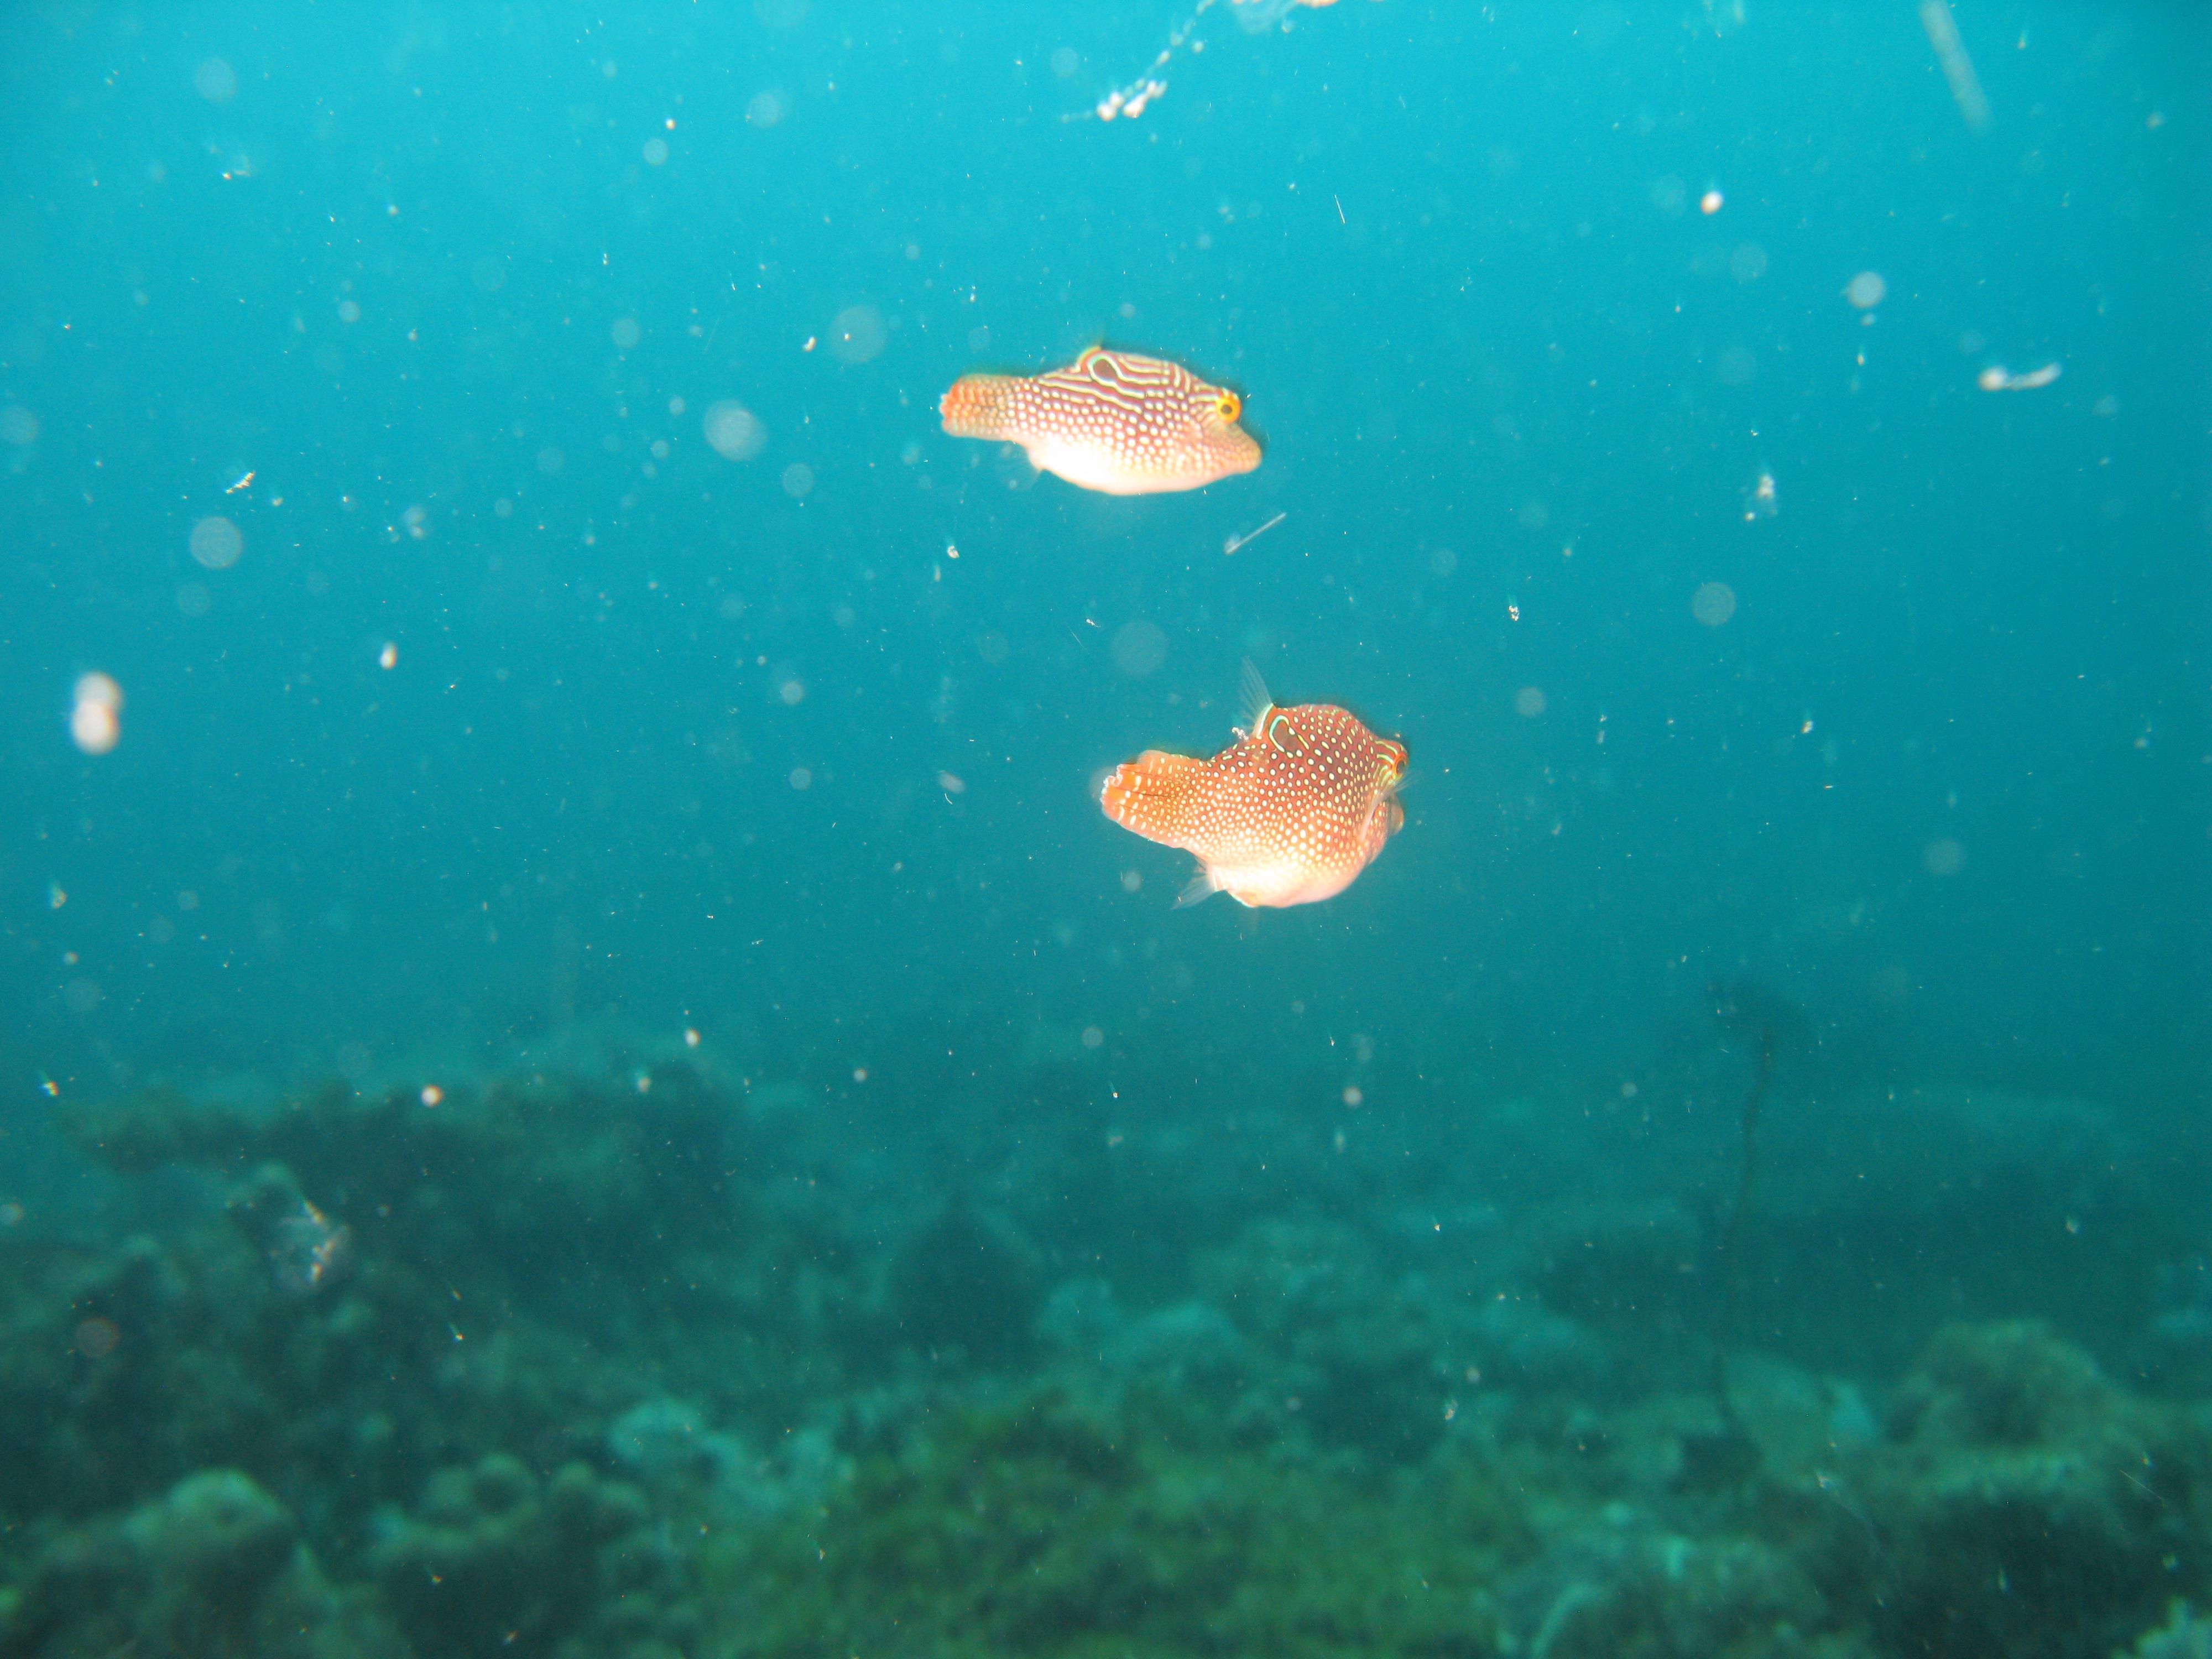Fish: (824, 260, 1454, 584), (1007, 666, 1526, 986)
